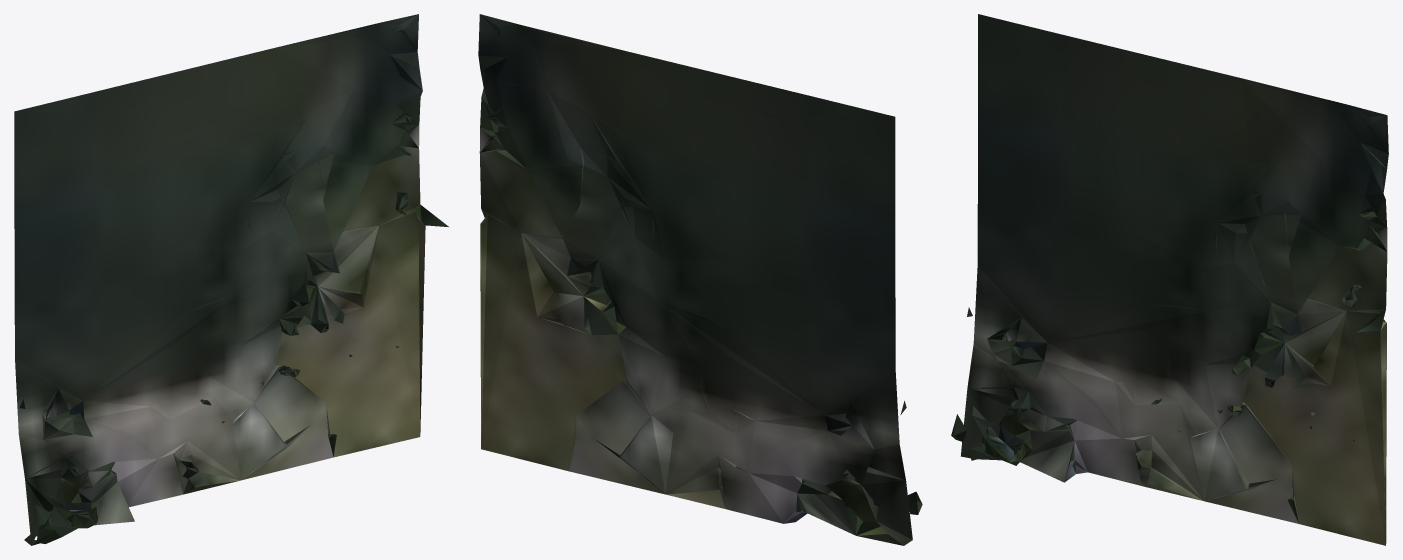
File: Tile_+032_+024_L13.obj
The picture shows the model from 3 angles, left to right: view 1: azimuth 30°, elevation 25°; view 2: azimuth 150°, elevation 25°; view 3: azimuth 330°, elevation 25°; orthographic projection. The views are drawn at different scales.
Size of the model in its own units: 250 by 250 by 34.23.
1 material, 1 textured.
